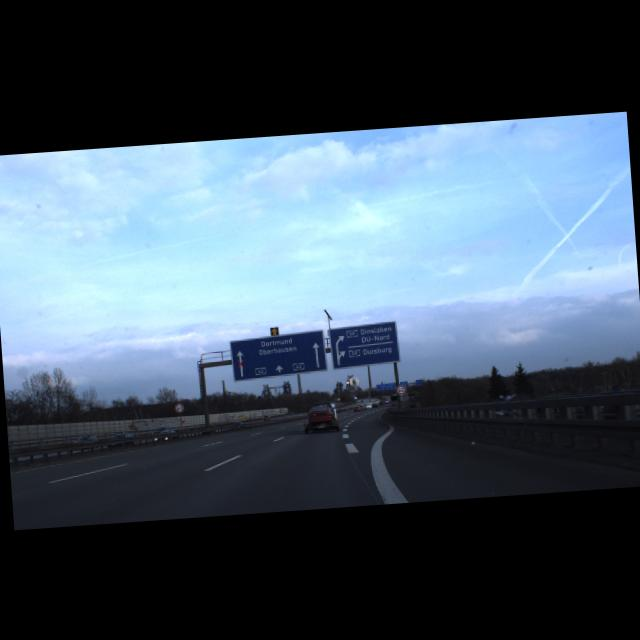prohibitory: (394, 383, 406, 394), (173, 402, 184, 412)
